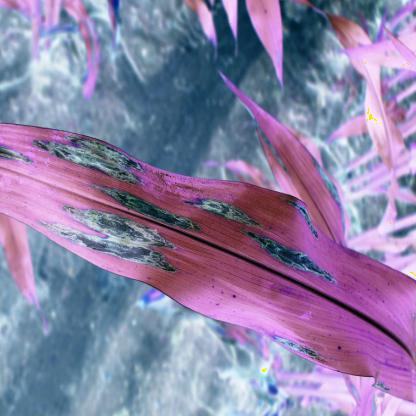corn leaf blight: (3, 119, 416, 397), (220, 70, 353, 245)
